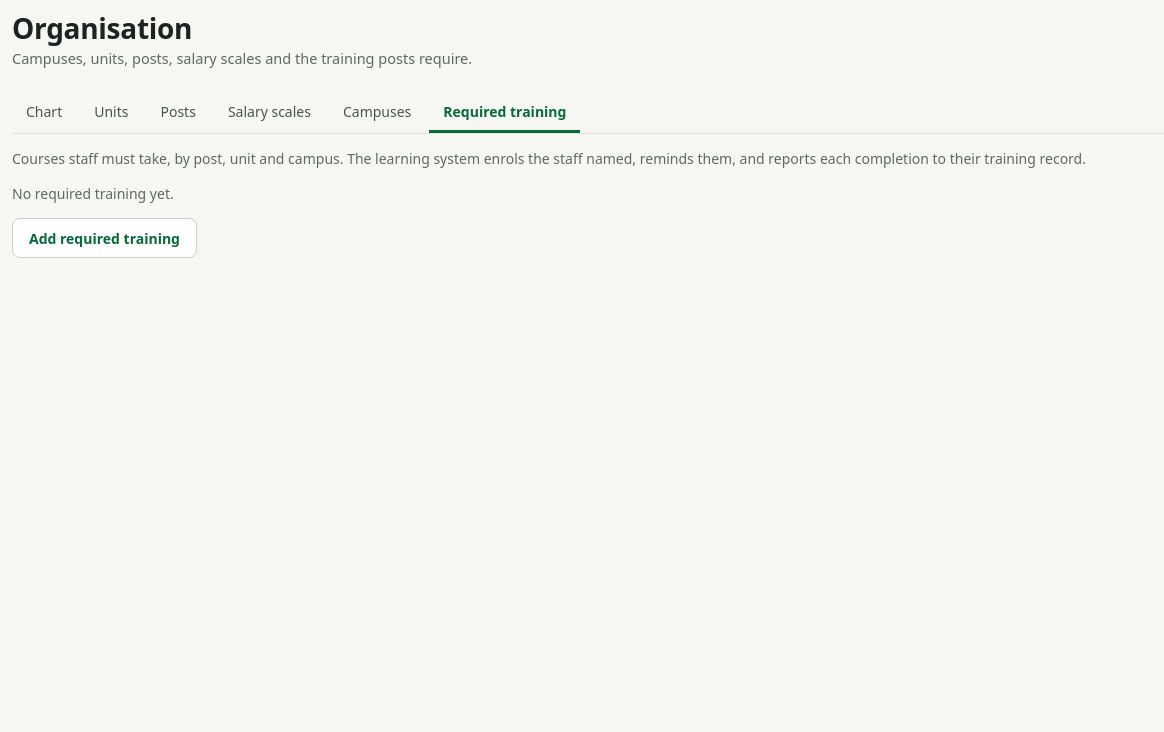
Test: required training › puts back the server's reason when a requirement is refused
Click the button "Add required training".
click(104, 238)  # box [12,218,197,258]
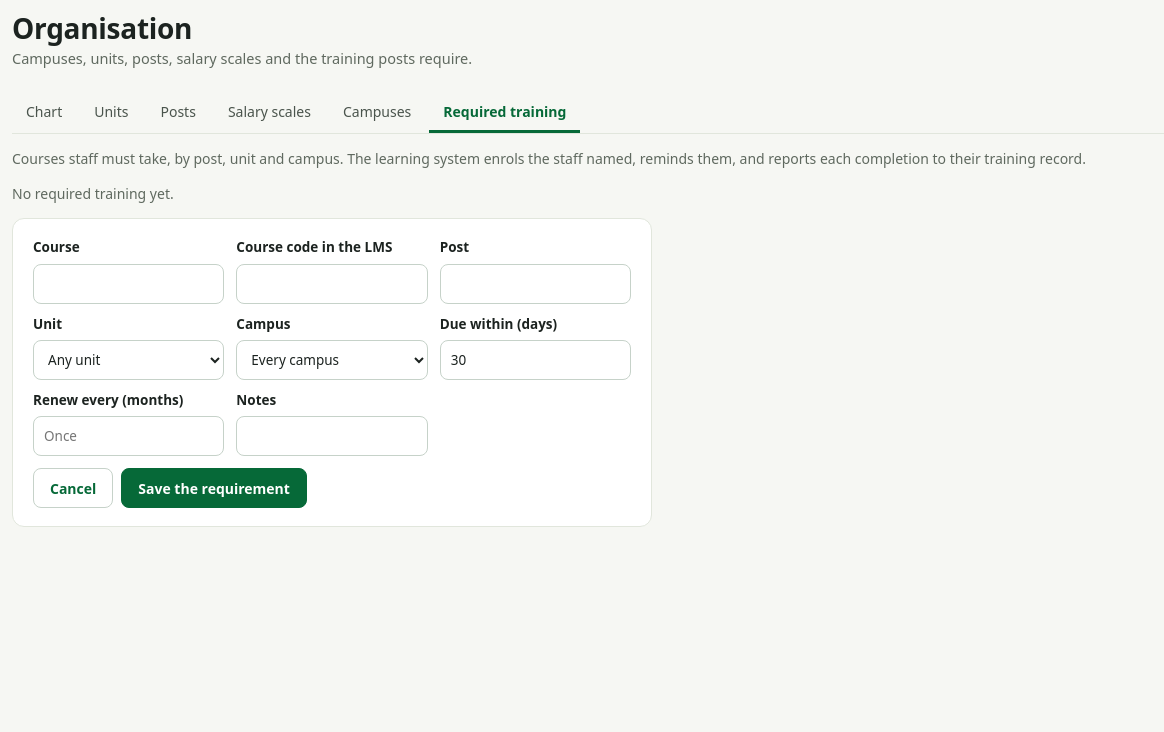
Type "Space walking" into the field labelled "Course".
click(129, 284); type("Space walking")  # box [33,264,224,304]
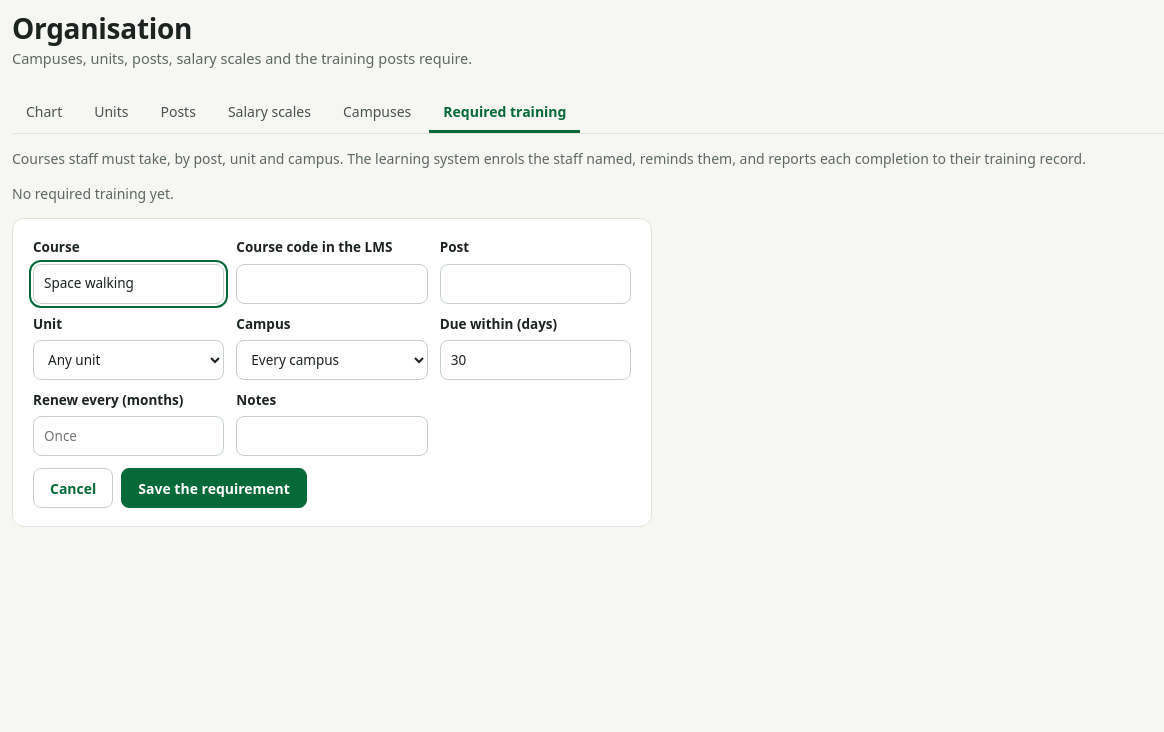
Type "Astronaut" into the field labelled "Post".
click(535, 284); type("Astronaut")  # box [440,264,631,304]
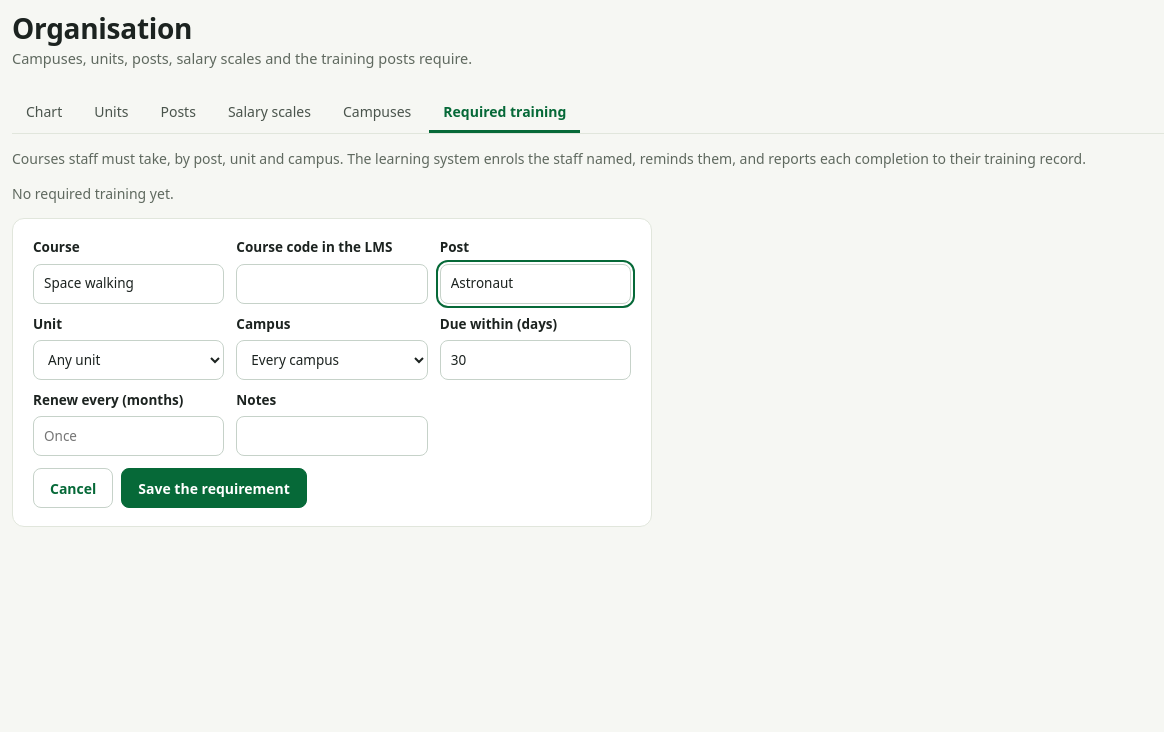
Click the button "Save the requirement".
click(214, 488)  # box [121,468,307,508]
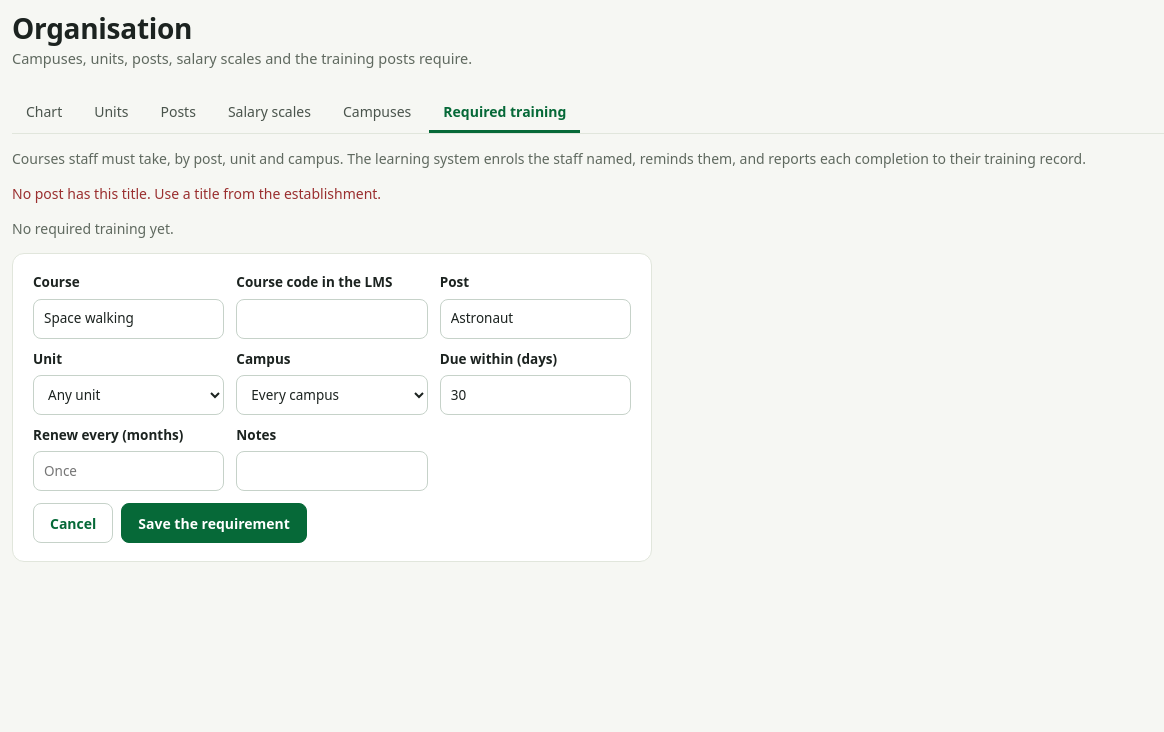
Expected: the message shows "No post has this title", [12,184,381,203]
